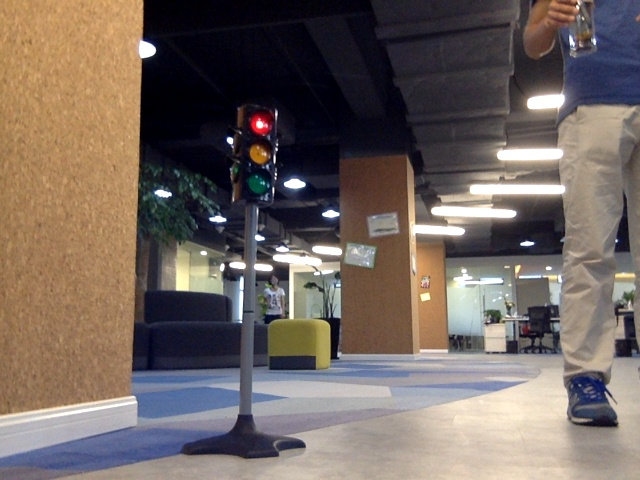red: (239, 110, 274, 197)
